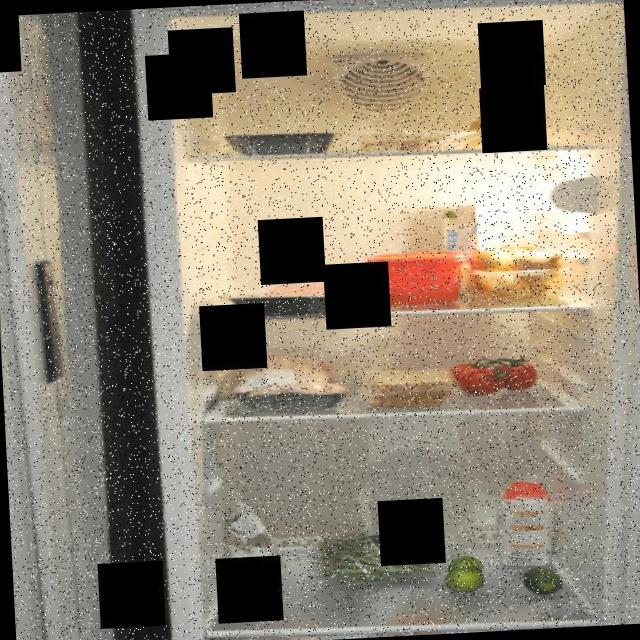Carne pollo: (218, 351, 344, 408)
Carne vacuno: (223, 272, 351, 313)
Cebolla: (464, 238, 566, 306)
Gambas/Langostinos: (372, 128, 469, 156)
Leche: (437, 198, 510, 298)
Mantequilla: (364, 246, 470, 308)
Patata: (451, 112, 552, 154)
Tomate: (449, 351, 542, 398)
bread: (356, 364, 456, 412)
flour: (218, 497, 288, 581)
green_beans: (313, 518, 452, 590)
sugar: (494, 477, 560, 568)
